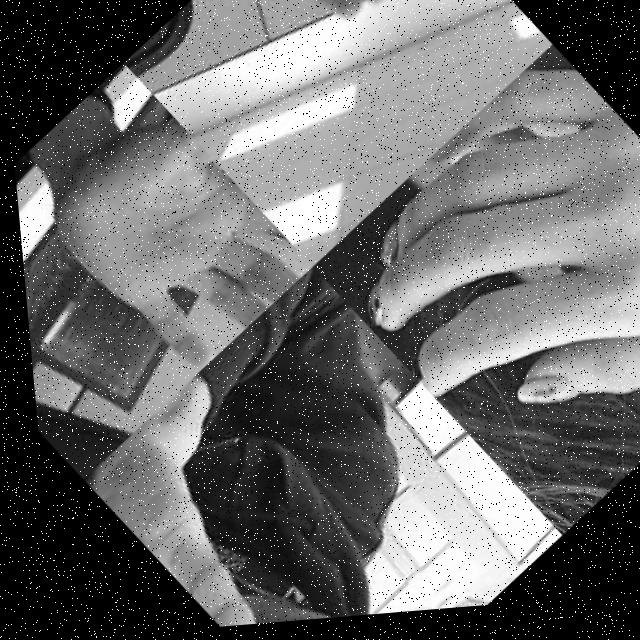hand: (293, 47, 640, 558), (67, 355, 421, 637), (18, 94, 315, 397), (210, 0, 461, 95)
